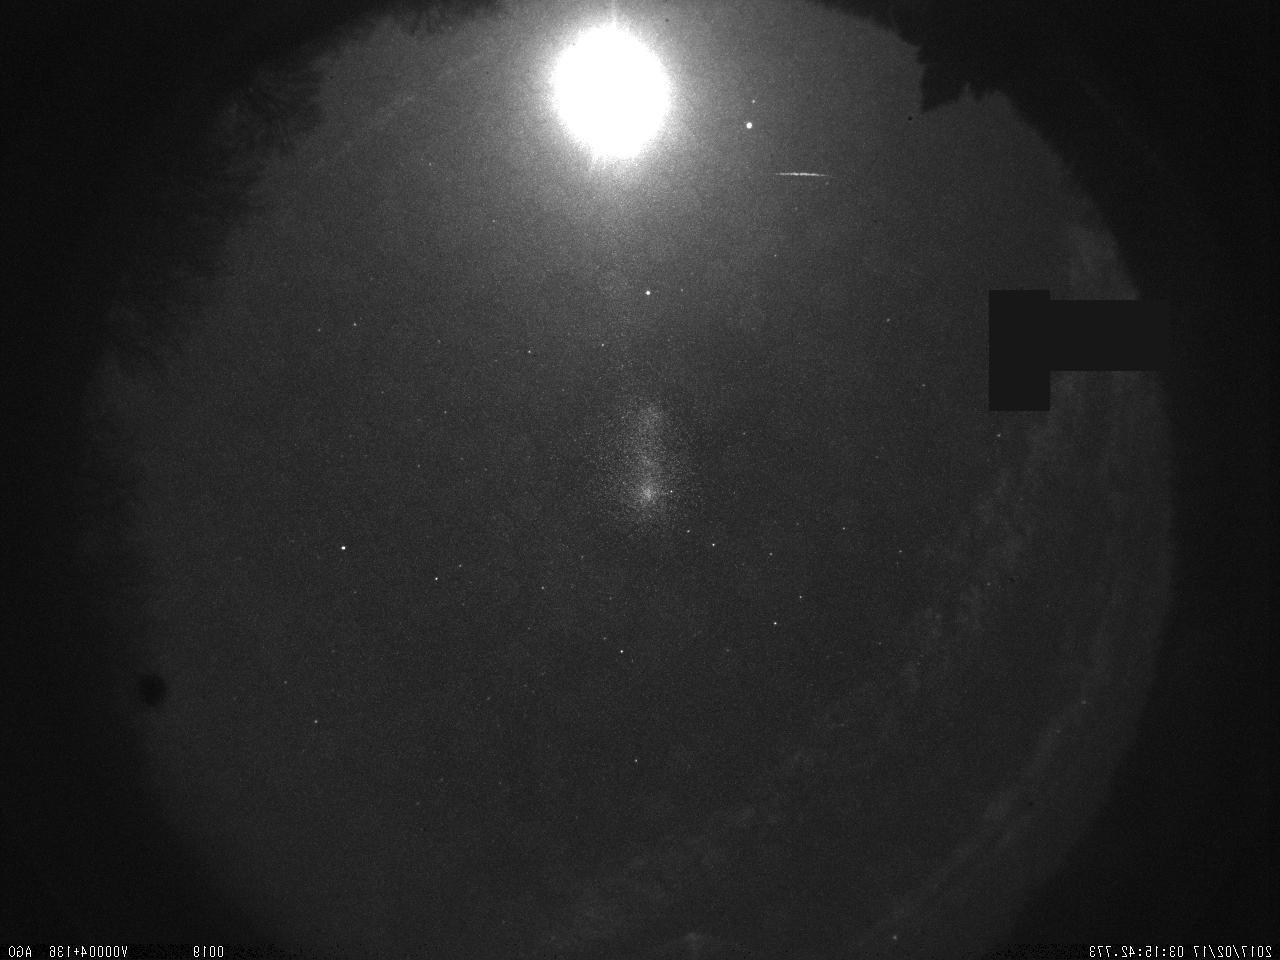meteor: (767, 165, 850, 187)
